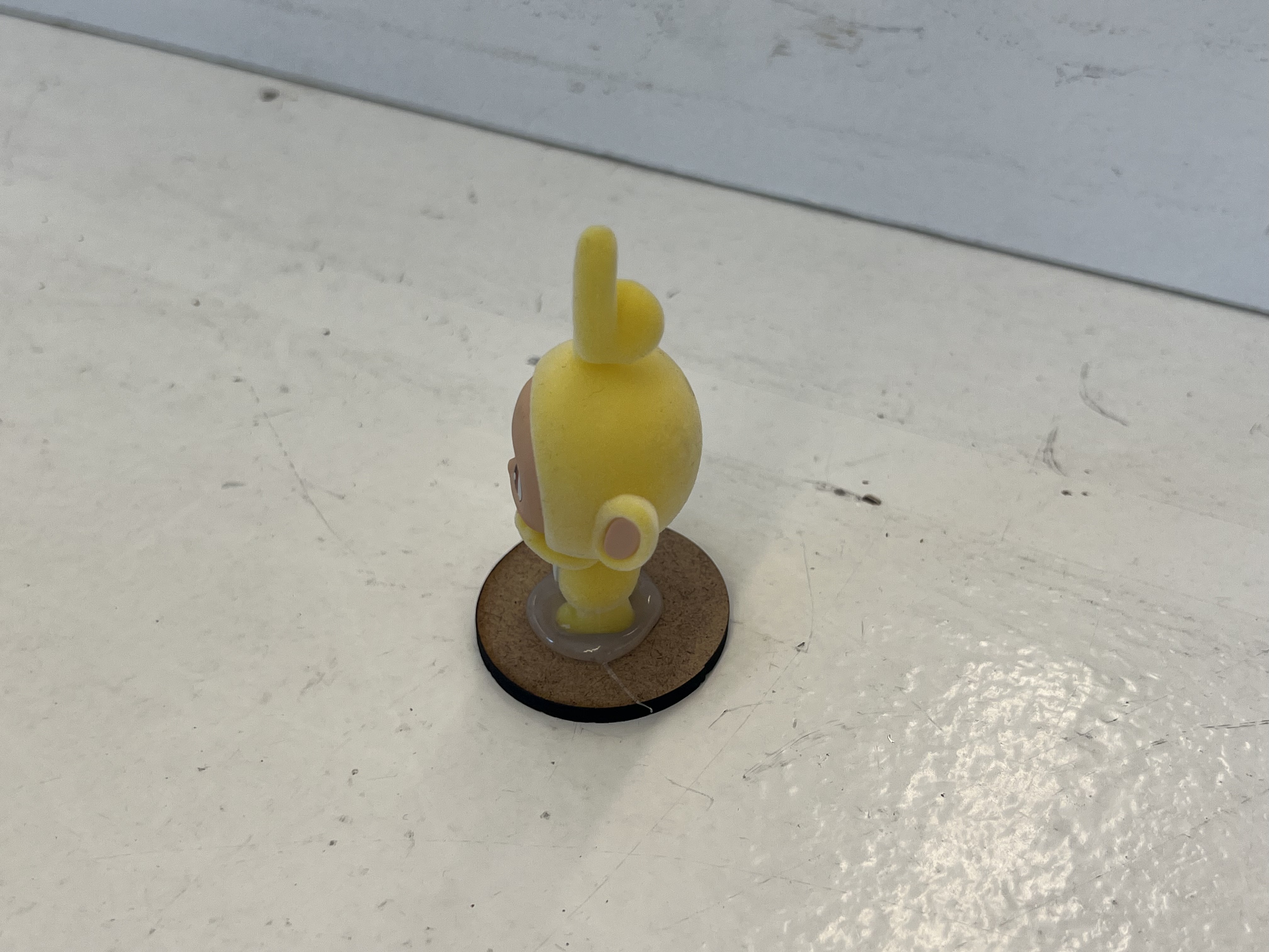teletubby: (508, 226, 702, 637)
